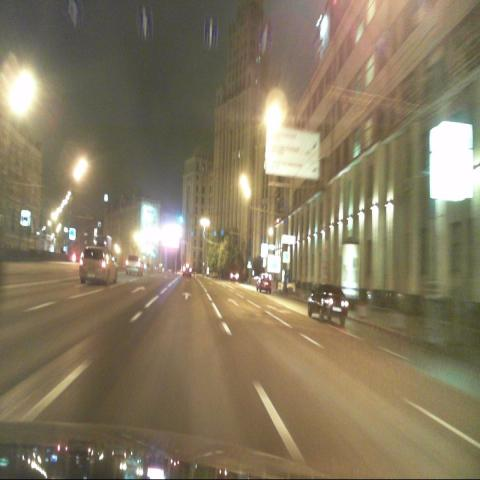5_15_2: (137, 7, 152, 37)
